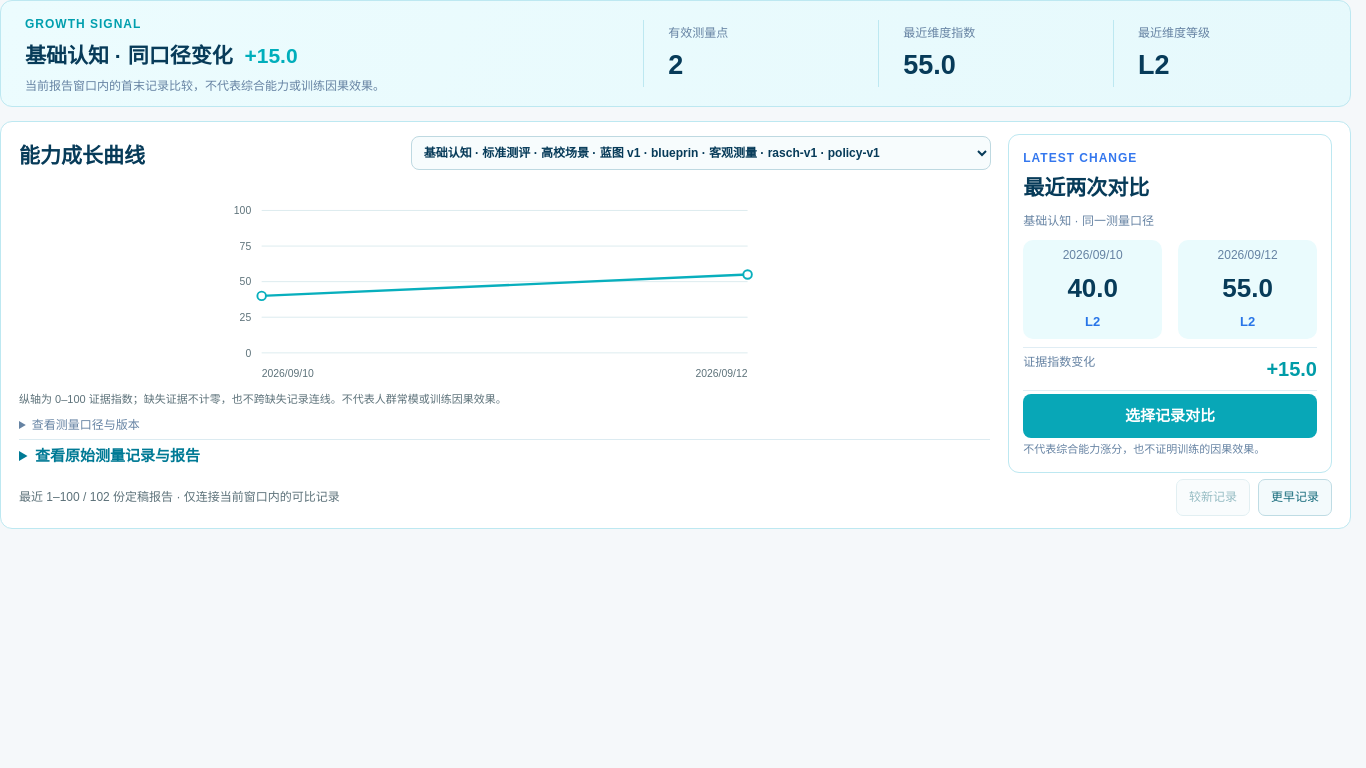
comparable growth records › makes the report window explicit and pages without joining distinct windows
The width and height of the screenshot is (1366, 768).
Click the button with test id "older-trends" at (1295,497), box x1=1258 y1=479 x2=1332 y2=516
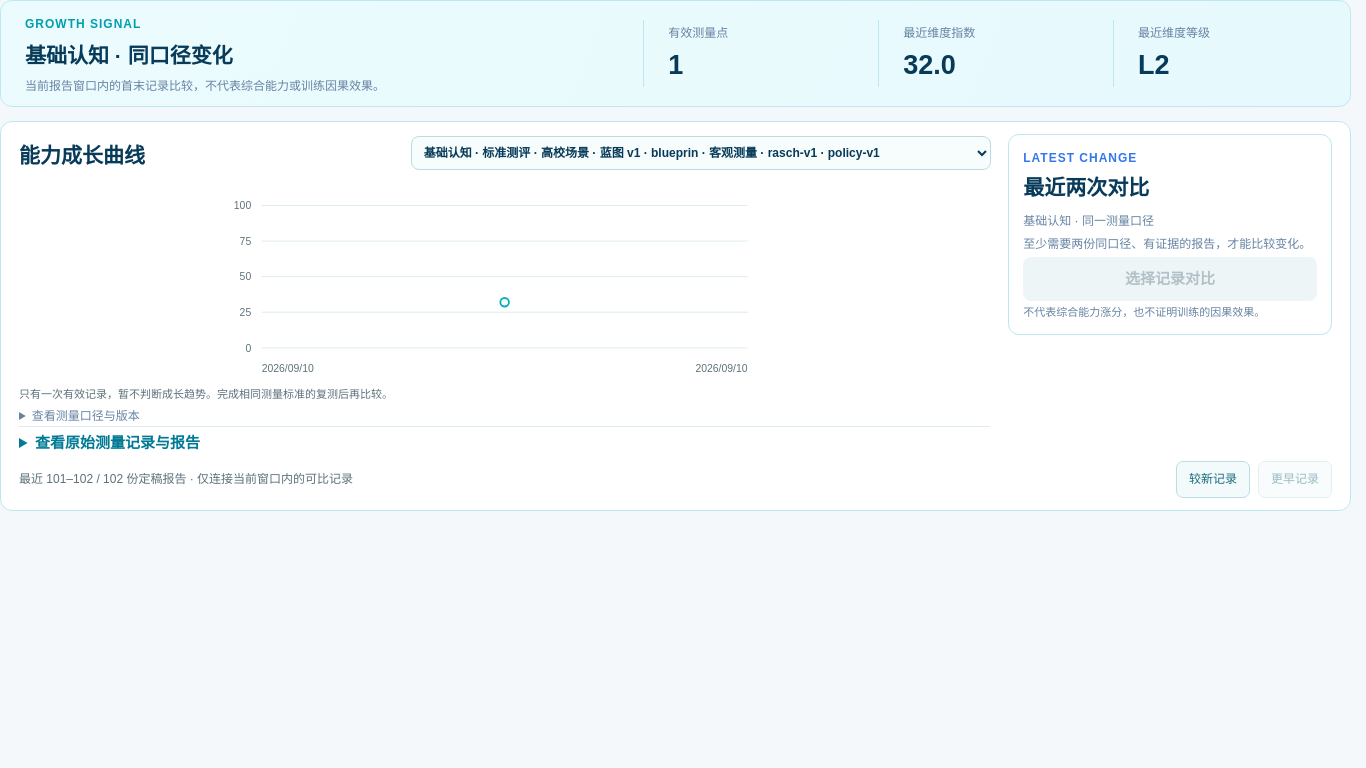
Check: the text "最近 101–102 / 102 份定稿报告" is shown, box x1=19 y1=472 x2=353 y2=486
